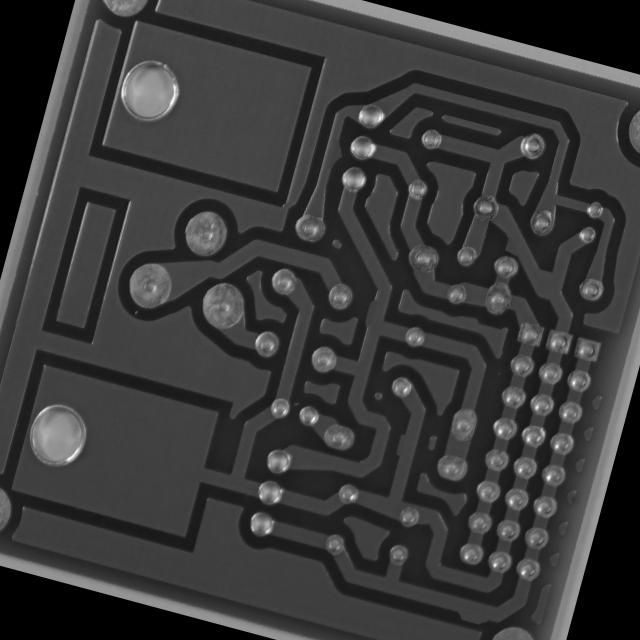spur: (448, 601, 495, 632), (318, 132, 350, 174), (358, 294, 388, 332), (500, 231, 532, 260), (389, 428, 414, 464)
